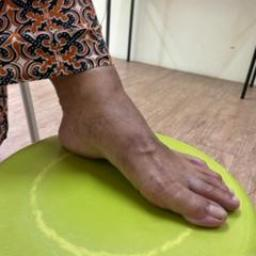Medial View -Left Foot-: (38, 61, 250, 243)
